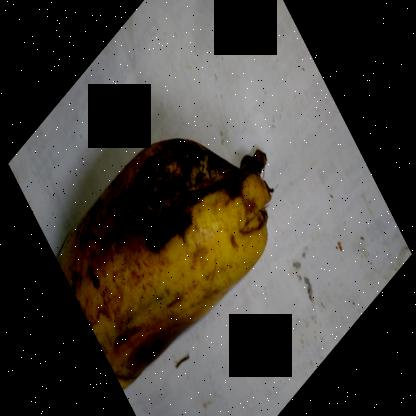ripe: (56, 134, 286, 392)
rotten: (112, 128, 276, 250), (118, 319, 214, 394)
